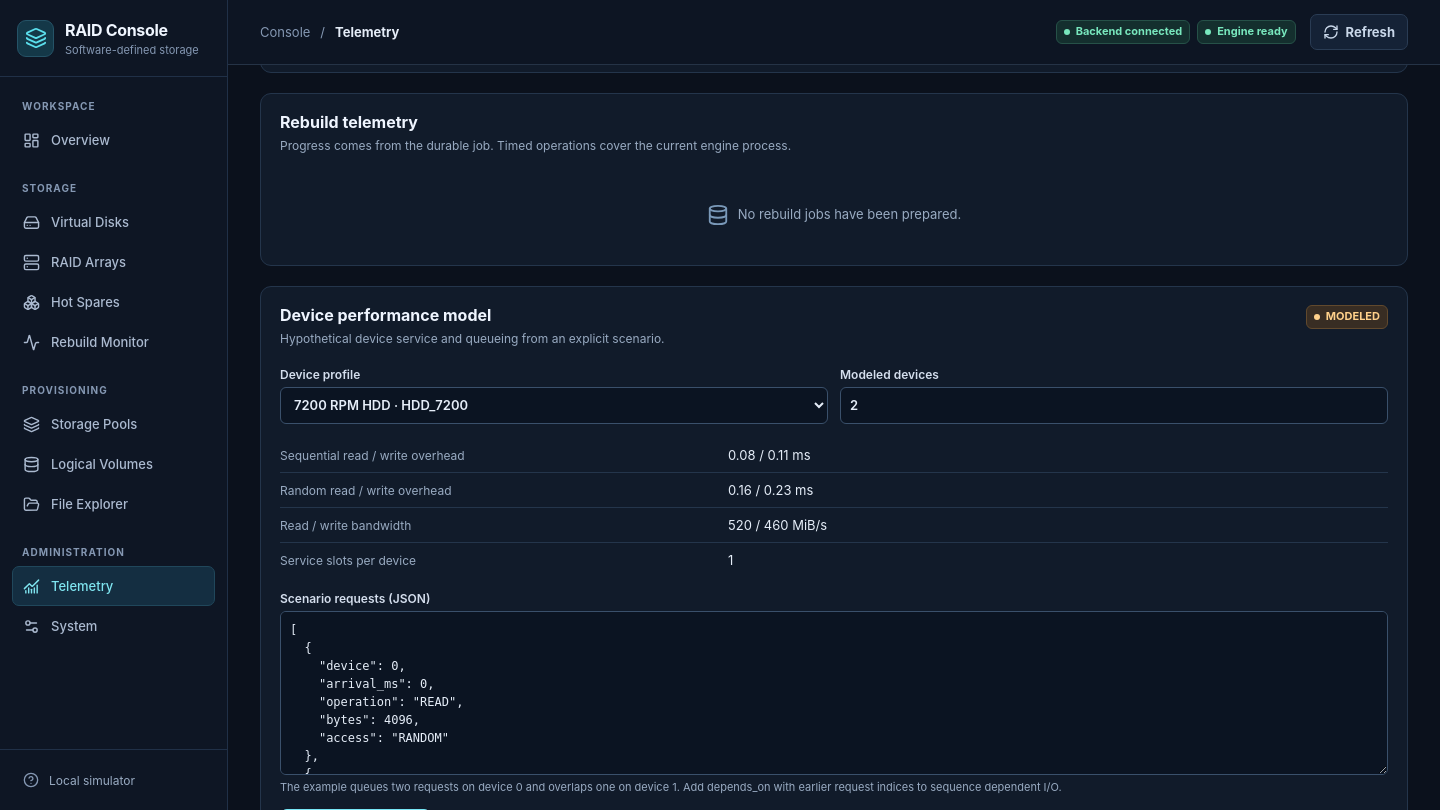
storage telemetry › shows empty observations and runs the selected hypothetical profile
(page scrolled)
Step 1. Select "NVMe SSD · NVME_SSD" in the dropdown labelled "Device profile" → (554, 405), box x1=280 y1=387 x2=828 y2=424
(page scrolled)
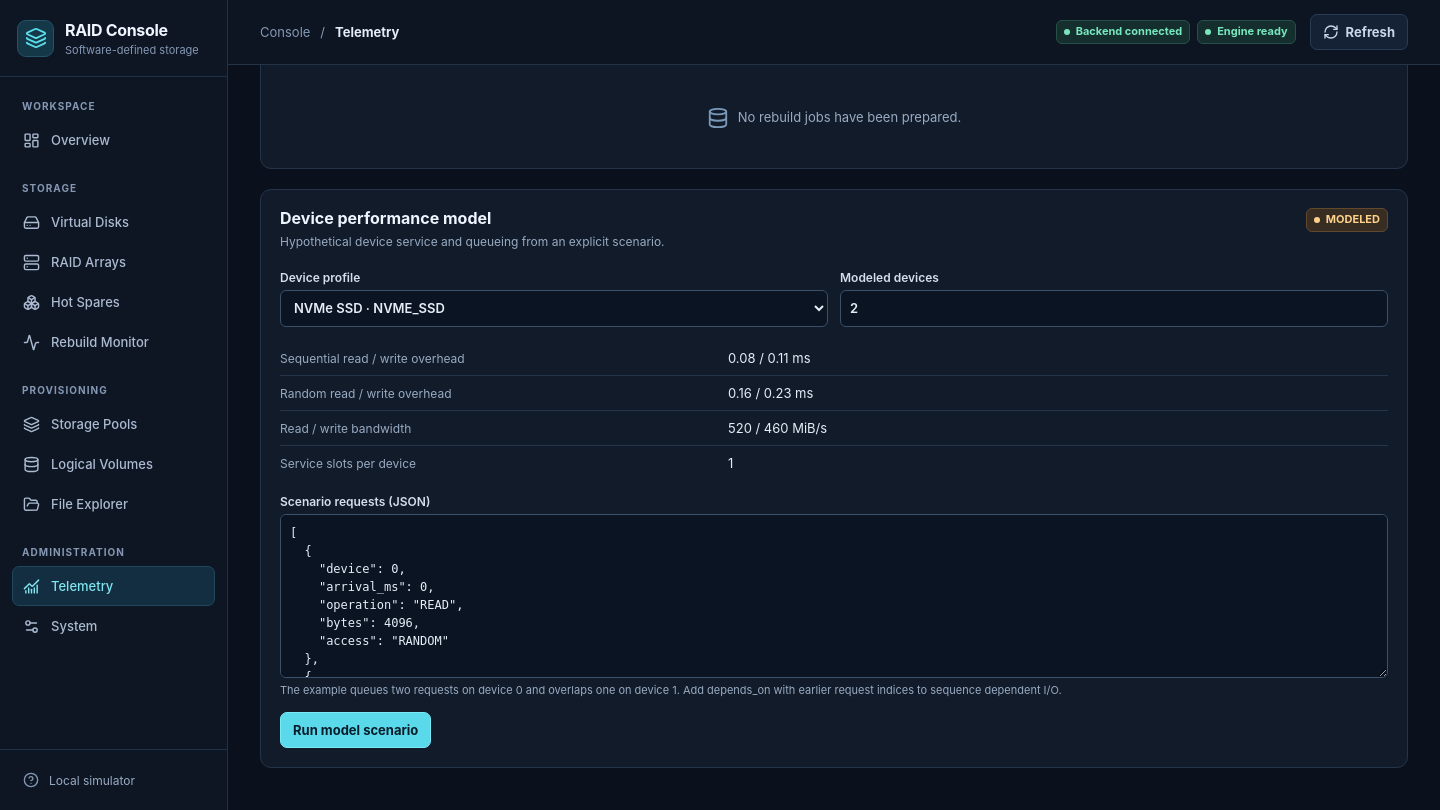
Check: the text "520 / 460 MiB/s" is shown, box x1=728 y1=420 x2=827 y2=436
Step 2. Click the button "Run model scenario" → (356, 730), box x1=280 y1=712 x2=431 y2=748
(page scrolled)
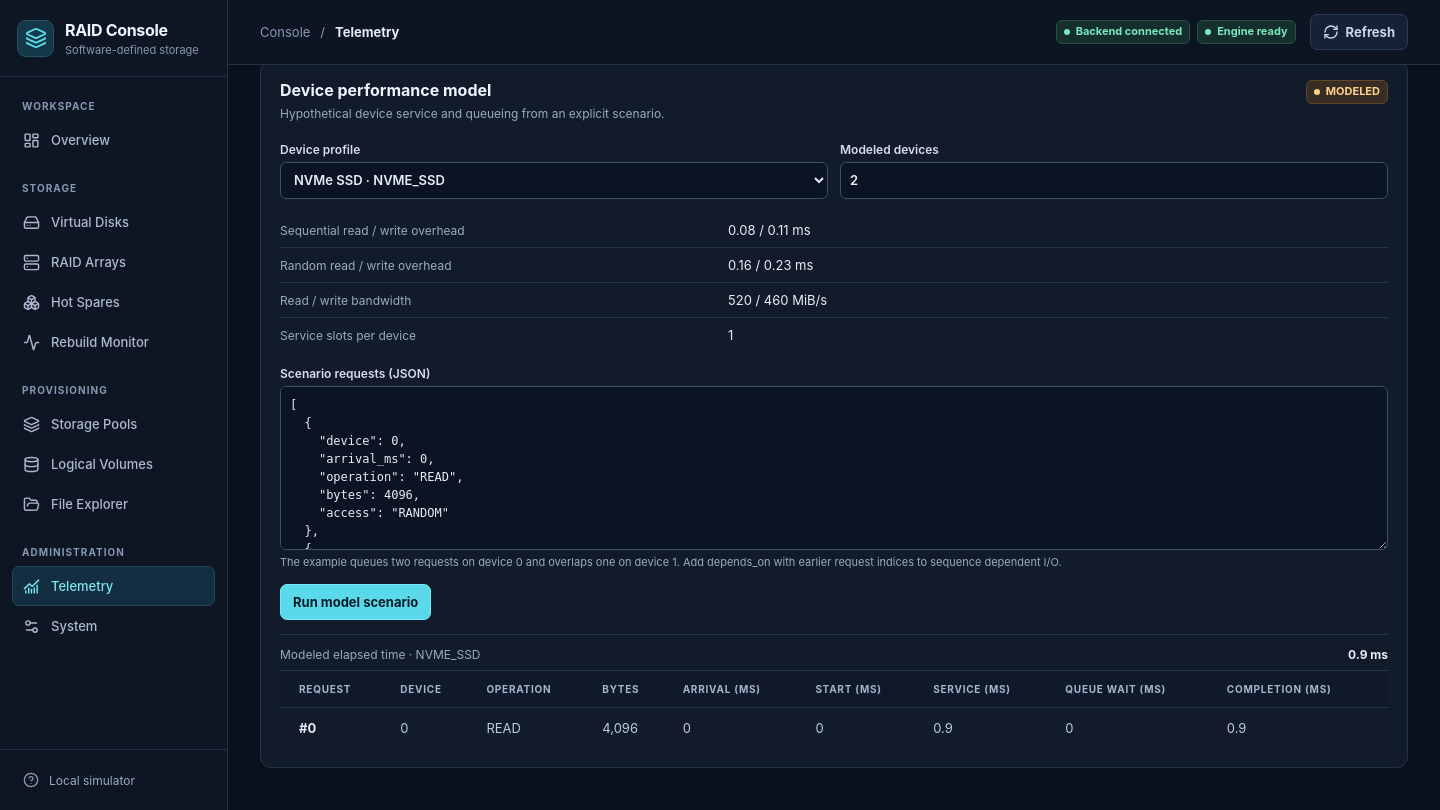
Check: the text "MODELED" is shown, box x1=1306 y1=80 x2=1388 y2=104
Check: the text "0.9 ms" is shown, box x1=1348 y1=647 x2=1388 y2=662
Check: the column heading "Queue wait (ms)" is shown, box x1=1052 y1=671 x2=1214 y2=708
